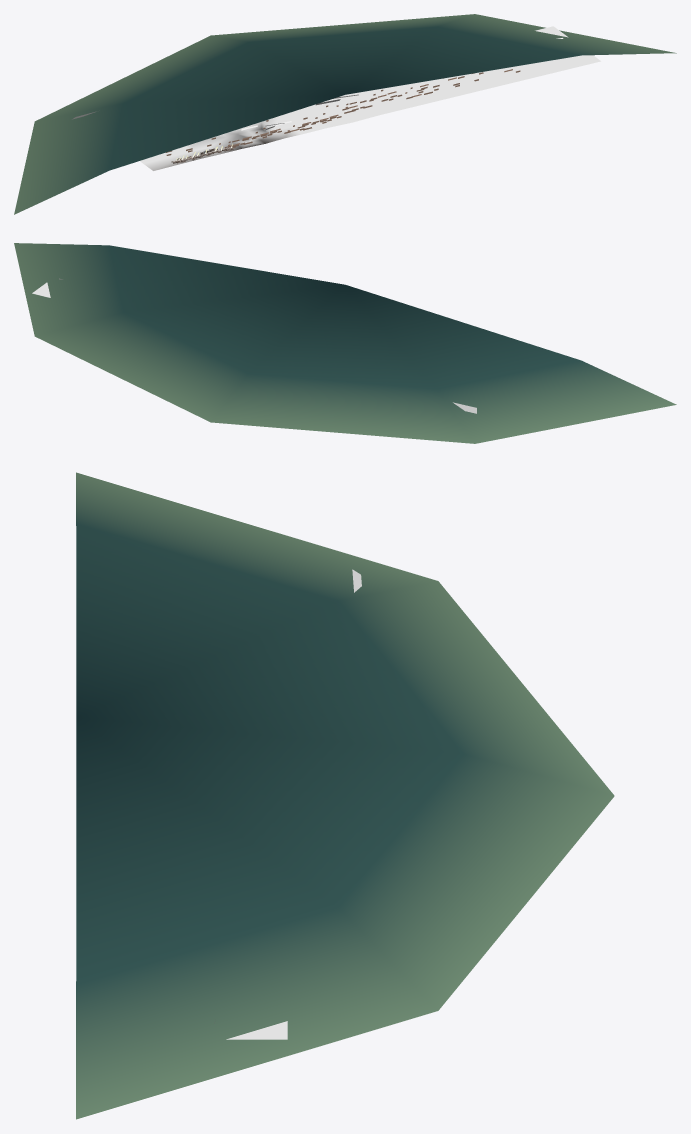
File: Forest_02.fbx
The picture shows the model from 3 angles, top to bottom: view 1: azimuth 30°, elevation 25°; view 2: azimuth 150°, elevation 25°; view 3: azimuth 270°, elevation 25°; orthographic projection. The views are drawn at different scales.
Parts seen in each view (by area): view 1: Bg_01_A01, Bg_01_A02, Tree_01_A; view 2: Bg_01_A01; view 3: Bg_01_A01.
Part boxes in pixels (bbox=[...]): Bg_01_A01: bbox=[14, 14, 676, 214]; Bg_01_A02: bbox=[140, 26, 600, 170]; Tree_01_A: bbox=[166, 69, 520, 155]; Bg_01_A01: bbox=[14, 243, 676, 443]; Bg_01_A01: bbox=[76, 472, 614, 1119].
Size of the model in its own units: 8461 by 478 by 2977.
